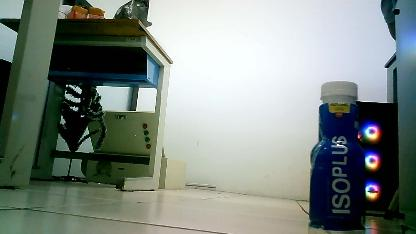Plastic Bottle: (305, 78, 375, 234)
